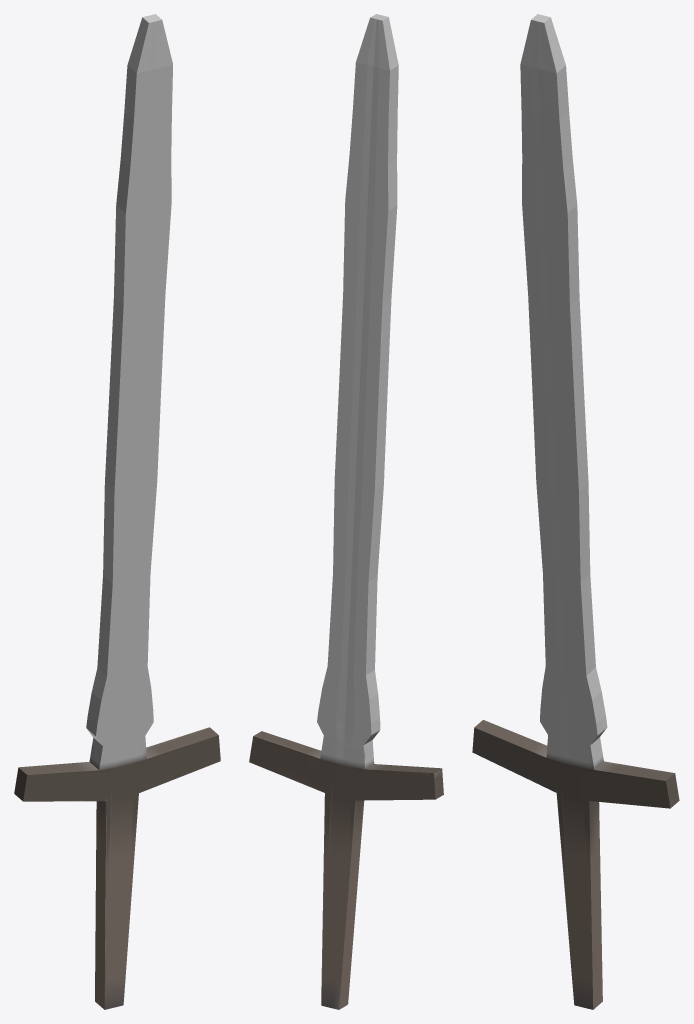
Rendered from sword_000003.obj.
3 views of the same model, side by side, from view 1: azimuth 30°, elevation 25°; view 2: azimuth 150°, elevation 25°; view 3: azimuth 330°, elevation 25° (orthographic). The views are drawn at different scales.
Bounding box in the file's own units: 0.1416 × 0.6971 × 0.0665.
